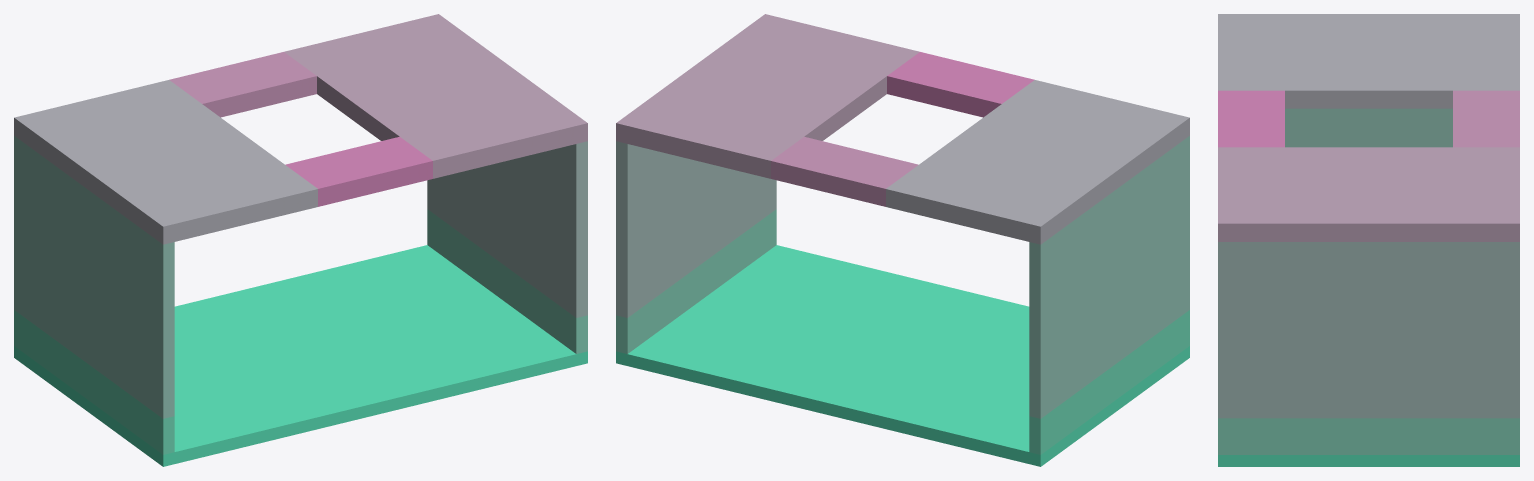
Rendered from HallBay.gltf.
3 renders of one model, left to right at view 1: azimuth 30°, elevation 25°; view 2: azimuth 150°, elevation 25°; view 3: azimuth 270°, elevation 25°, orthographic.
Parts seen in each view (by area): view 1: HallBay; view 2: HallBay; view 3: HallBay.
Part boxes in pixels (left/top/right/bottom): HallBay: left=14, top=14, right=587, bottom=466; HallBay: left=616, top=14, right=1189, bottom=466; HallBay: left=1218, top=14, right=1519, bottom=466.
Size of the model in its own units: 14.8 by 8 by 9.
